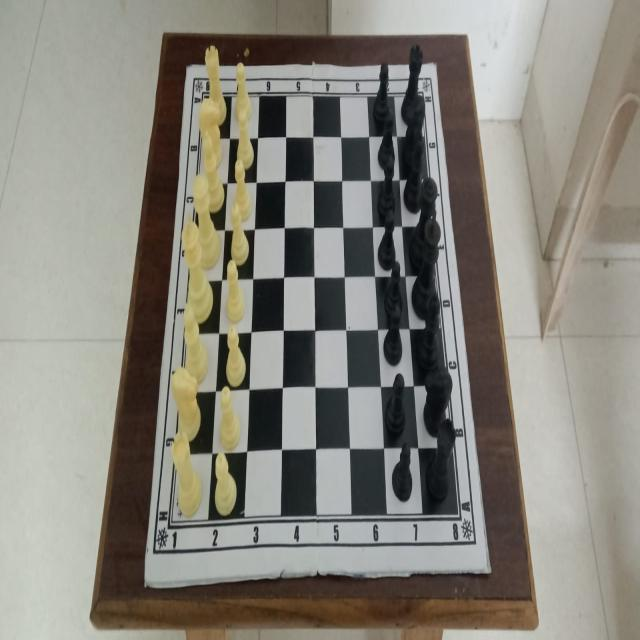corners: (480, 553, 499, 585), (137, 566, 153, 594), (180, 52, 196, 78), (431, 60, 440, 75)
